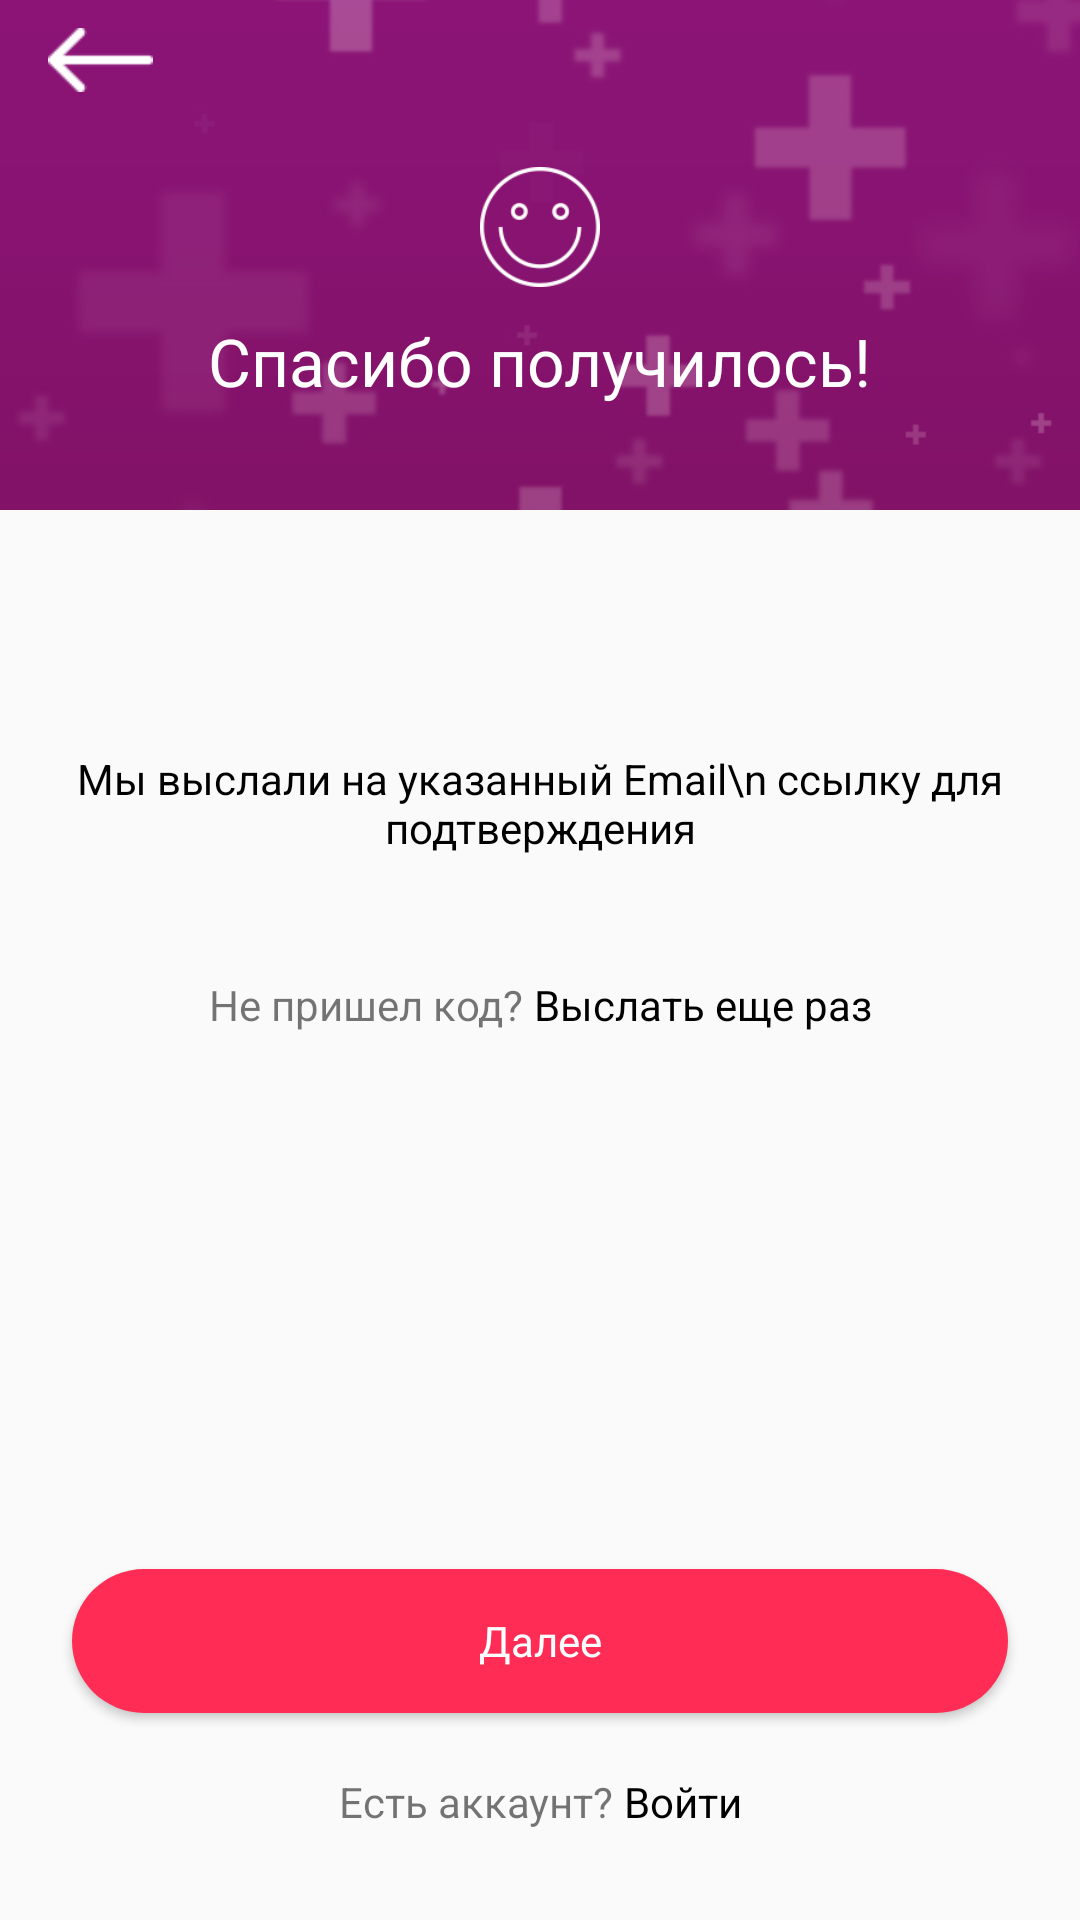

Icons on this 1080*1920 Android screen, each with its box as (x1, y1, x2, y2):
arrow back: (48, 28, 153, 92)
smile: (480, 167, 600, 287)
